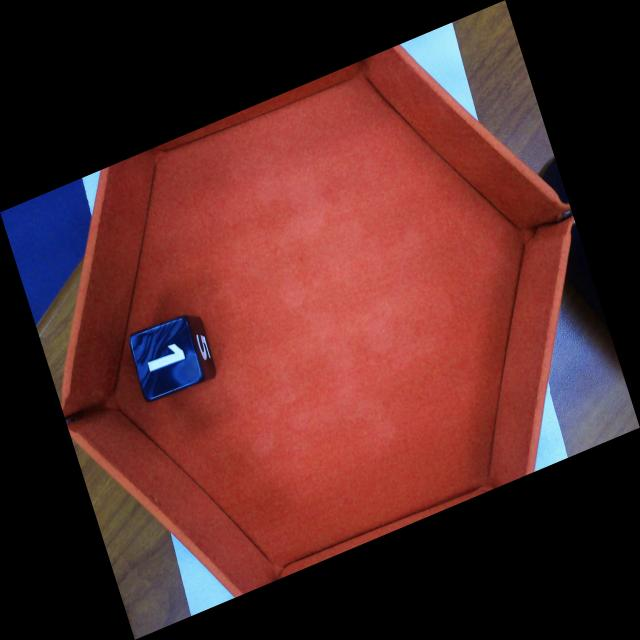dice: (129, 316, 206, 403)
